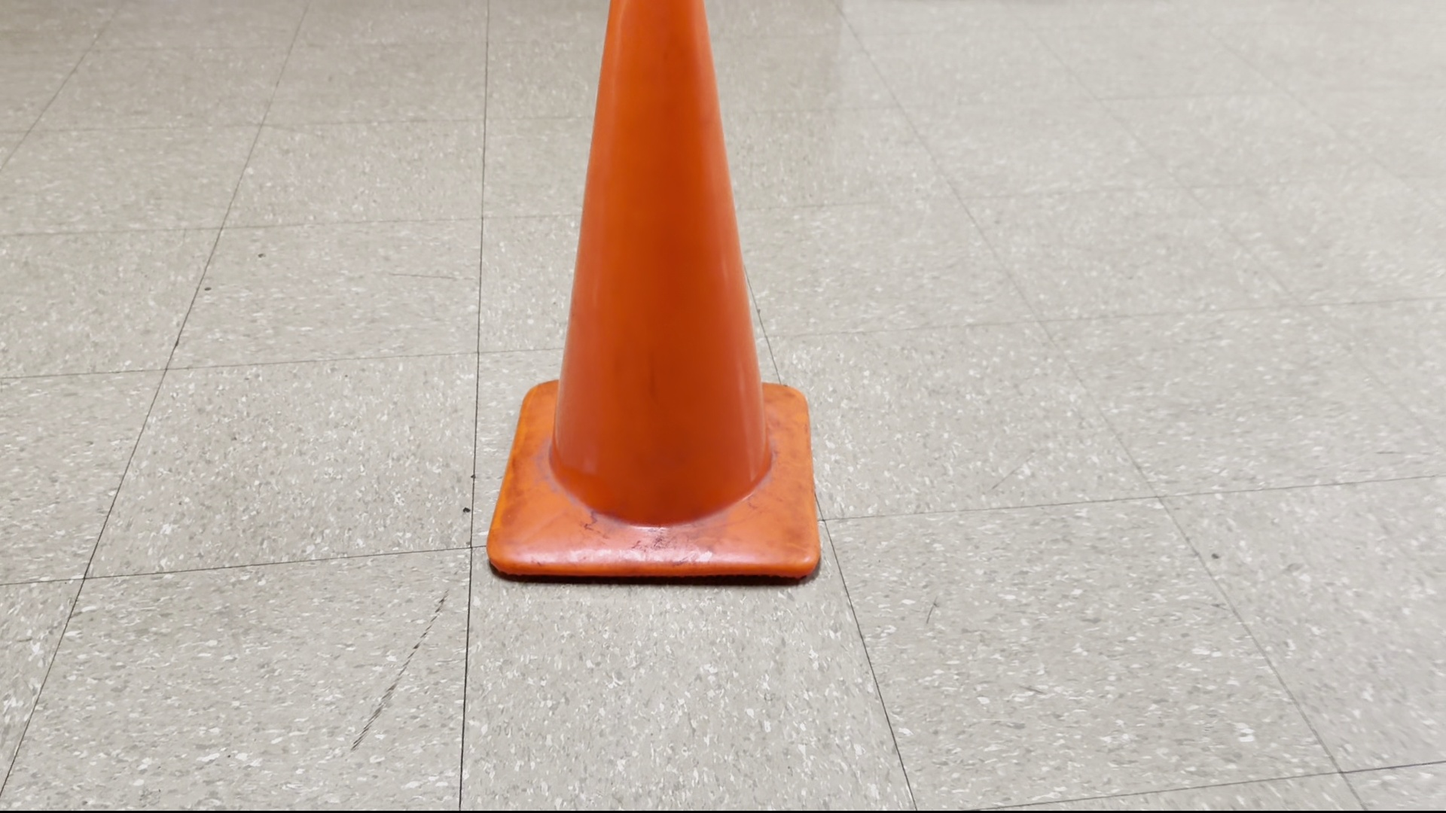traffic_cone: (485, 0, 822, 582)
